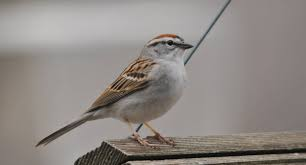hsparrow: (31, 28, 198, 152)
